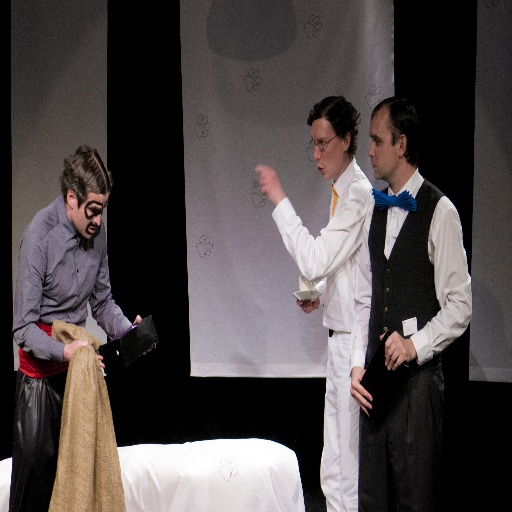hand: (382, 324, 420, 382), (64, 338, 107, 372), (349, 364, 374, 420), (132, 315, 156, 357), (256, 164, 282, 202), (297, 299, 320, 315)
